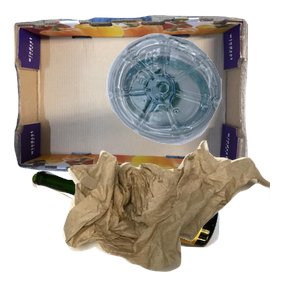cardboard: (11, 13, 251, 182)
glass: (29, 167, 241, 300)
plastic: (104, 31, 300, 168)
trash: (60, 138, 300, 300)
